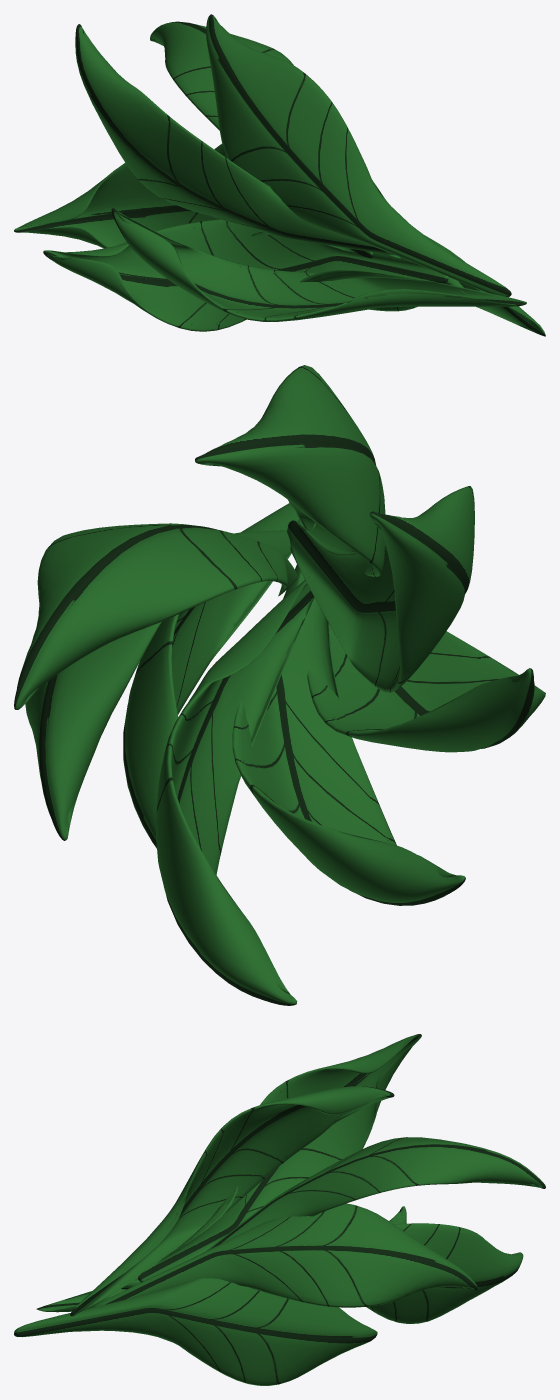
Rendered from Plant3.1.fbx.
The picture shows the model from 3 angles, top to bottom: view 1: azimuth 30°, elevation 25°; view 2: azimuth 150°, elevation 25°; view 3: azimuth 270°, elevation 25°; orthographic projection. The views are drawn at different scales.
Visible parts, largest first — view 1: Plane.024; view 2: Plane.024; view 3: Plane.024.
Boxes of the visible parts, bbox=[...] form: Plane.024: bbox=[14, 14, 545, 336]; Plane.024: bbox=[14, 365, 545, 1005]; Plane.024: bbox=[14, 1034, 545, 1385].
Size of the model in its own units: 218 by 201 by 377.
1 material, 1 textured.
